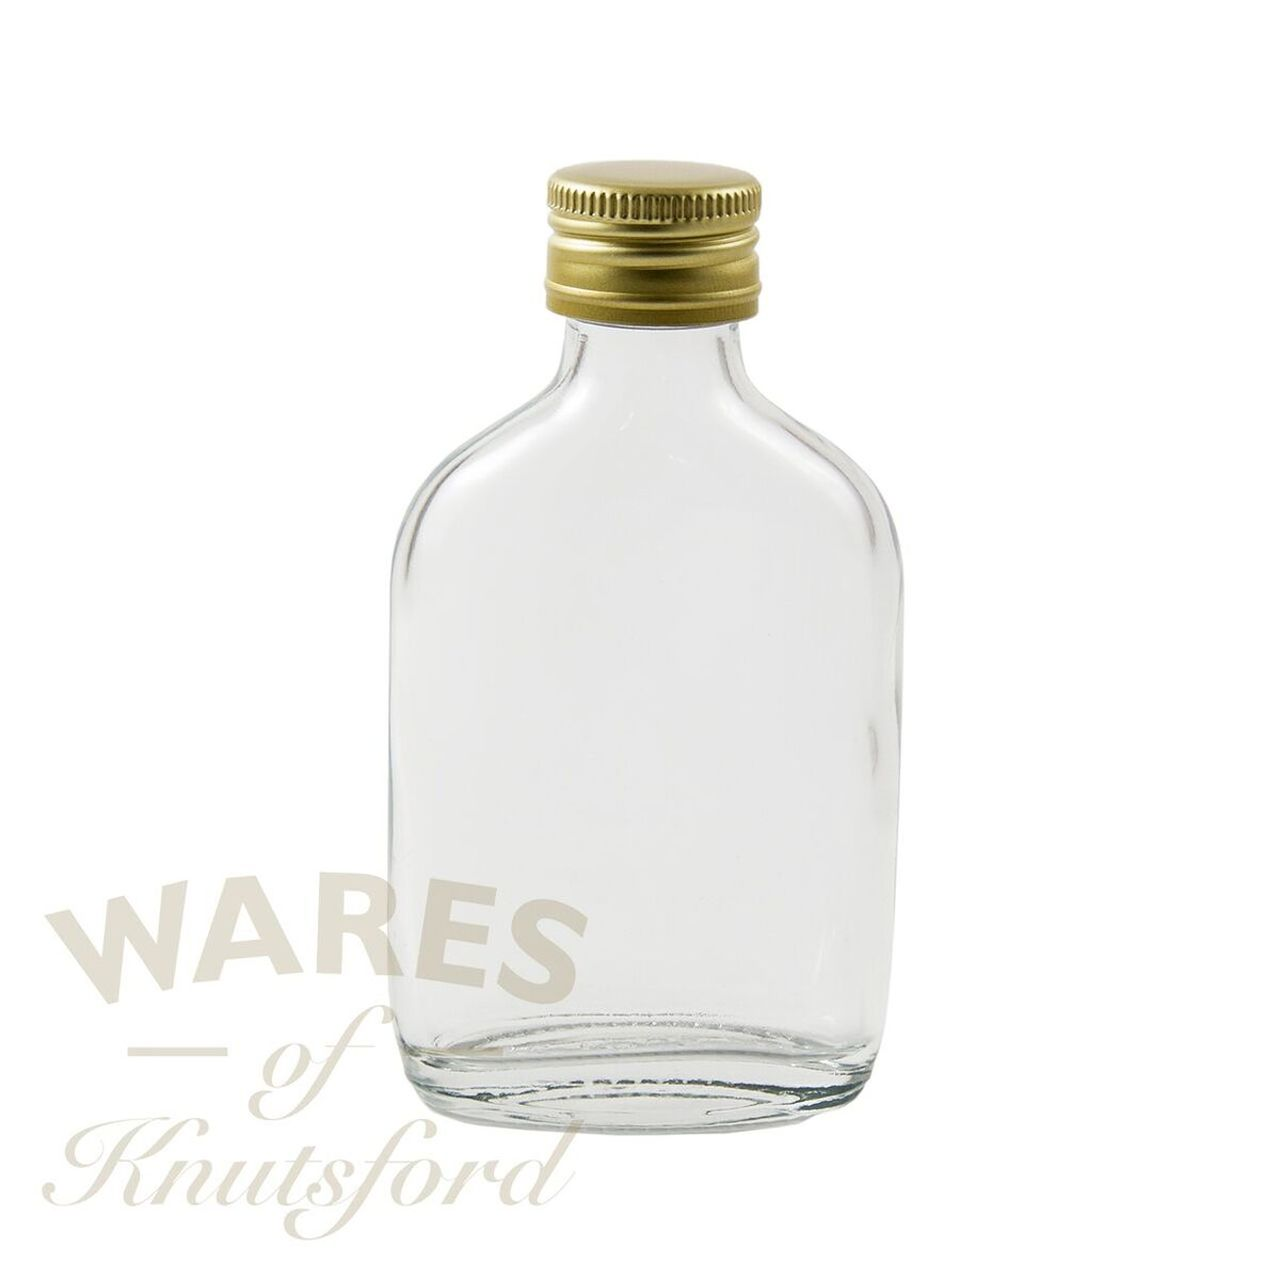glass_bottle: (375, 154, 917, 1144)
